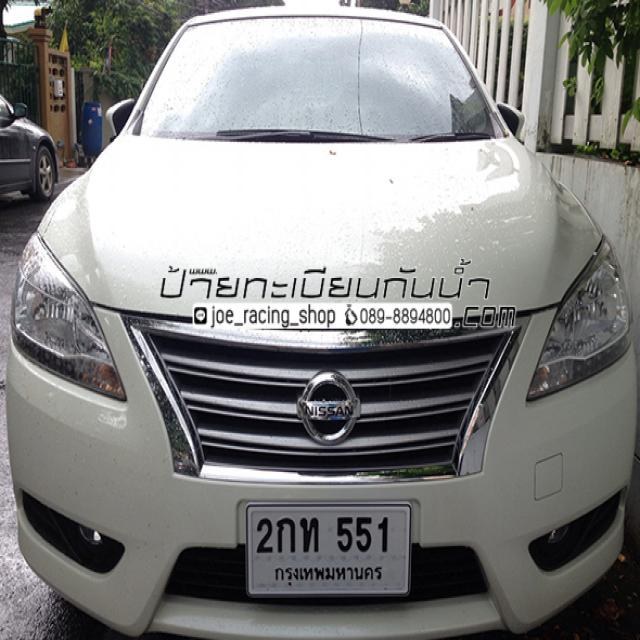license_plate: (245, 499, 412, 600)
